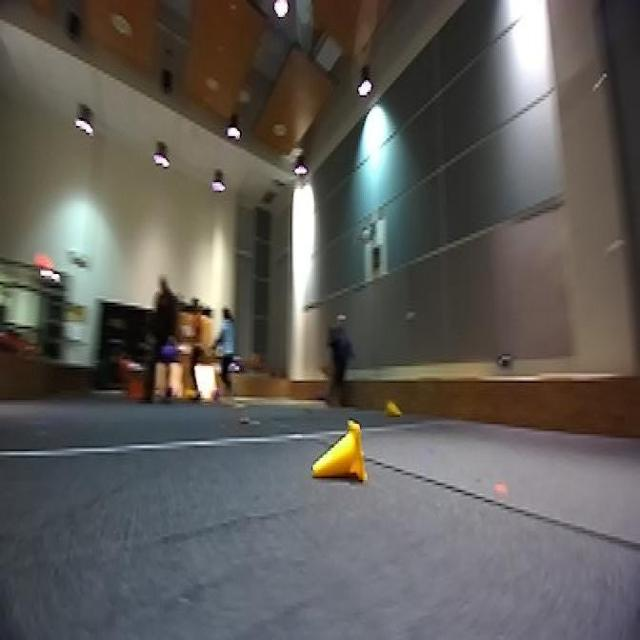frc_cone: (310, 419, 365, 490), (382, 395, 407, 422)
frc_cube: (157, 339, 178, 369)
